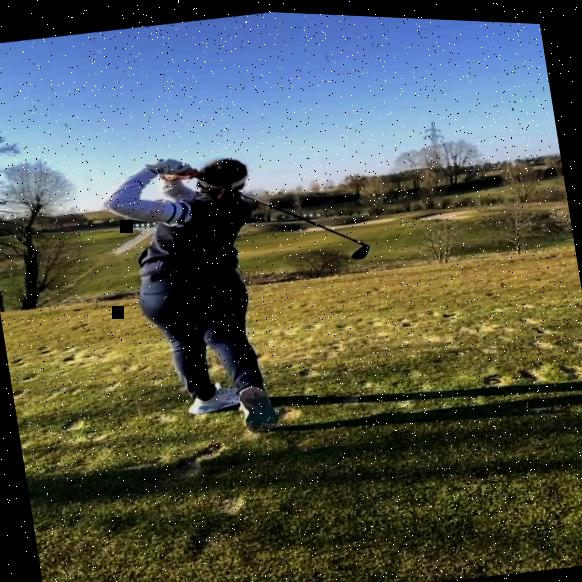ClubHead: (350, 239, 371, 256)
